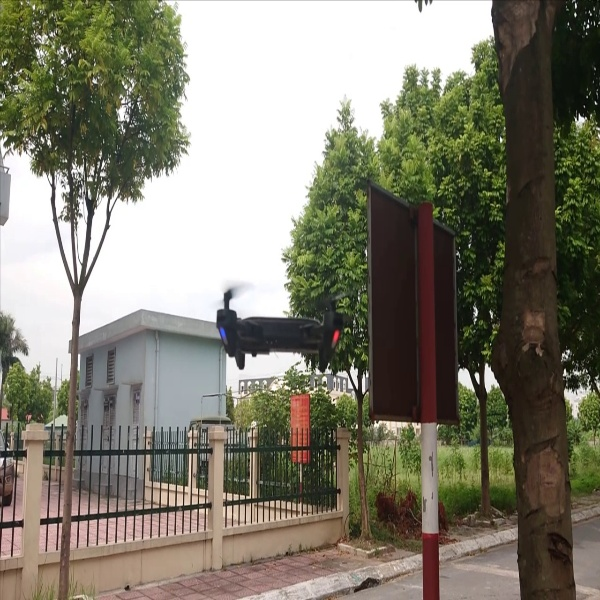drone: (201, 273, 367, 378)
